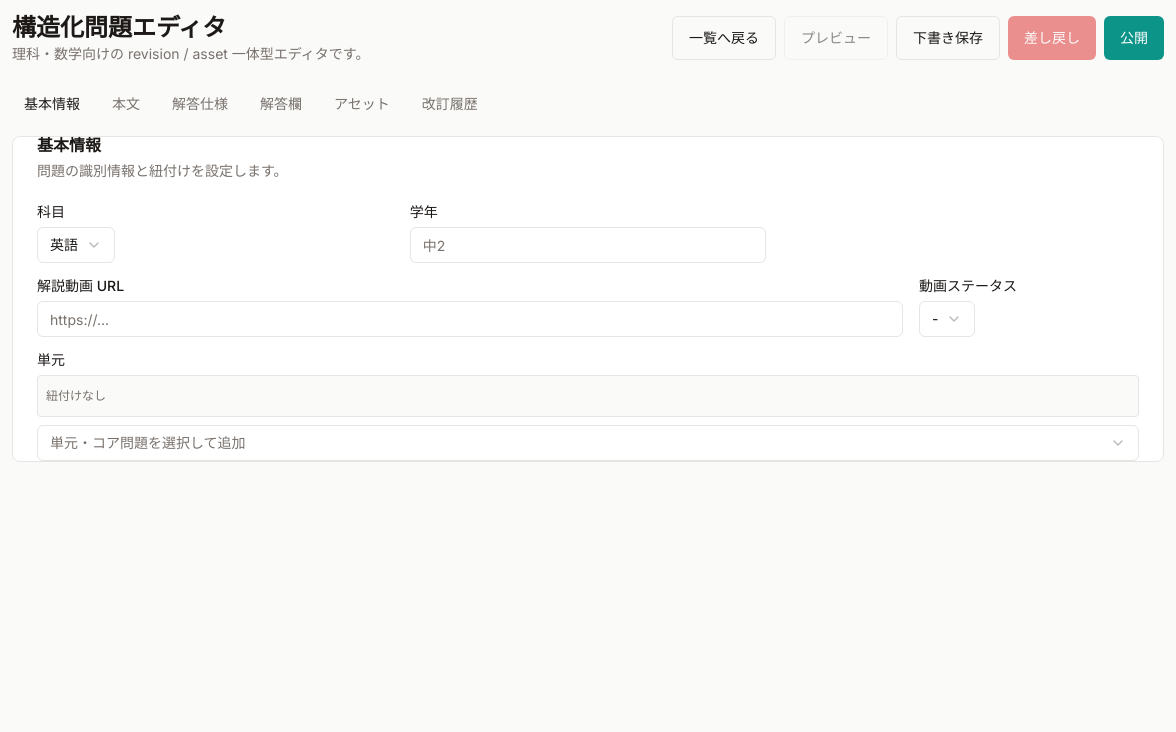
it: ProblemEditorClient › 解説動画URLを入力すると動画ステータスの表示が「設定済み」になる
The image size is (1176, 732).
Expected: the dropdown labelled "-" is enabled, [919,301,976,337]
Expected: the text "URL設定済みのため自動的に「設定済み」になります" is not shown
Step 1. Type "https://example.com/video.mp4" into the field with placeholder "https://..." → coordinates (470, 319), box [37,301,903,337]
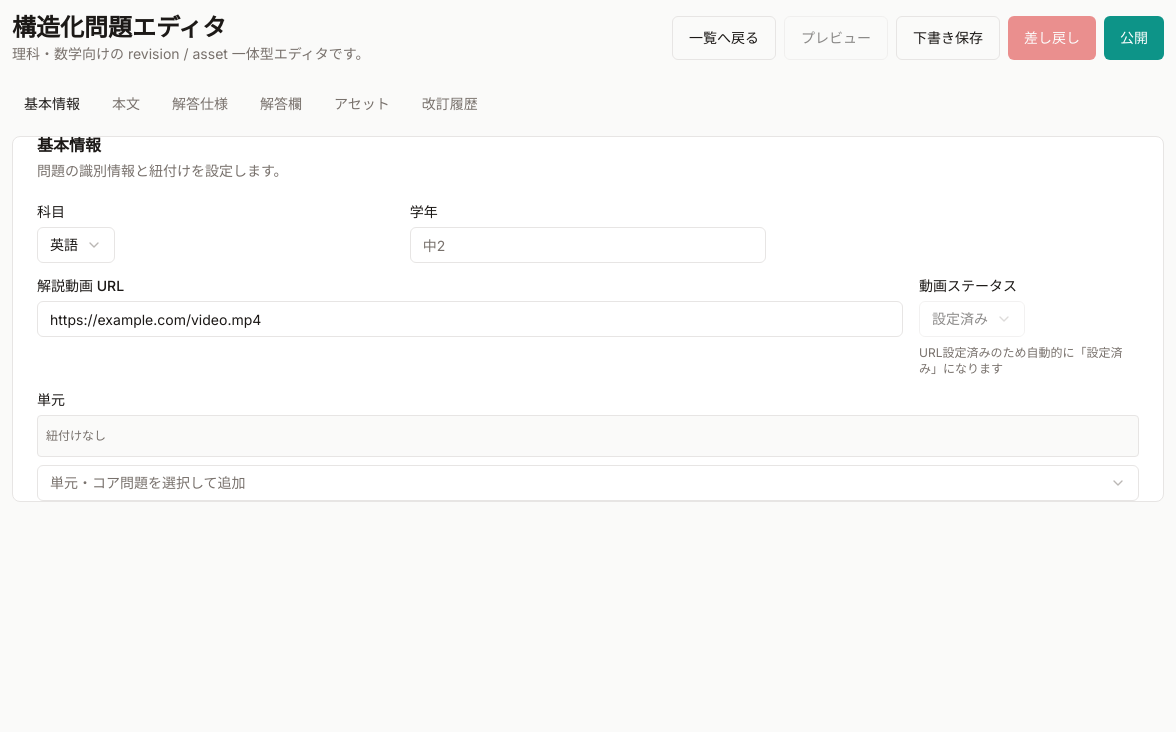
Now the dropdown labelled "設定済み" is shown, box [919,301,1025,337]
Now the dropdown labelled "設定済み" is disabled, box [919,301,1025,337]
Now the text "URL設定済みのため自動的に「設定済み」になります" is shown, box [919,345,1139,377]
// URL を消すと NONE 表示に戻る
Step 2. Clear the field with placeholder "https://..." → coordinates (470, 319), box [37,301,903,337]
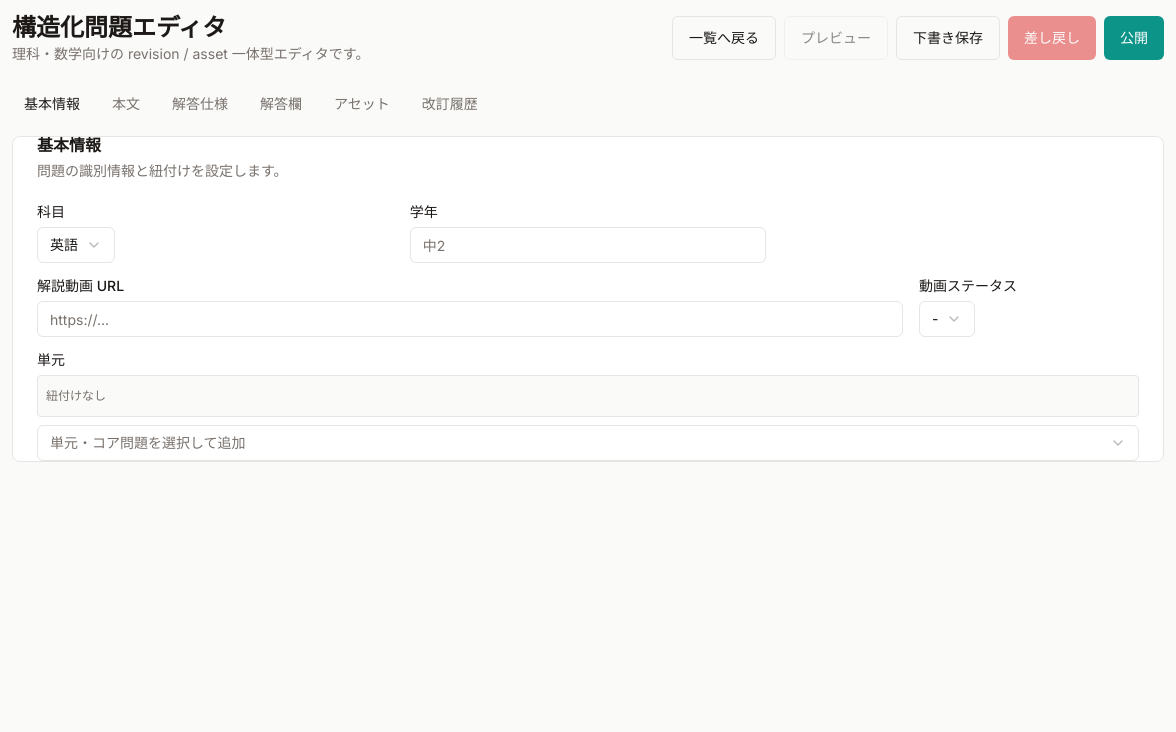
Now the dropdown labelled "-" is shown, box [919,301,976,337]
Now the dropdown labelled "-" is enabled, box [919,301,976,337]
